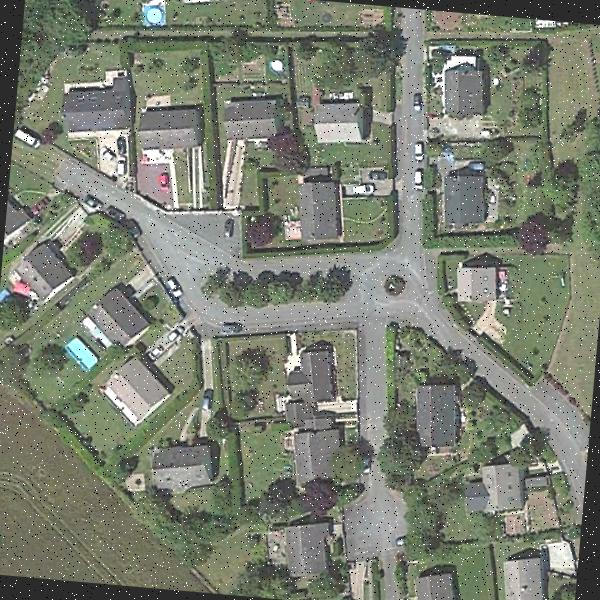Buildings: (274, 348, 344, 489), (108, 354, 174, 429), (64, 72, 132, 133), (153, 438, 219, 500), (308, 89, 378, 146), (86, 282, 144, 350), (413, 382, 463, 453), (141, 94, 200, 152), (275, 520, 334, 578), (298, 175, 346, 245), (442, 172, 491, 234), (438, 66, 488, 120), (464, 470, 527, 512), (16, 240, 68, 290), (501, 547, 544, 600), (407, 566, 472, 600), (222, 98, 278, 136), (458, 268, 495, 306), (5, 197, 28, 235)
